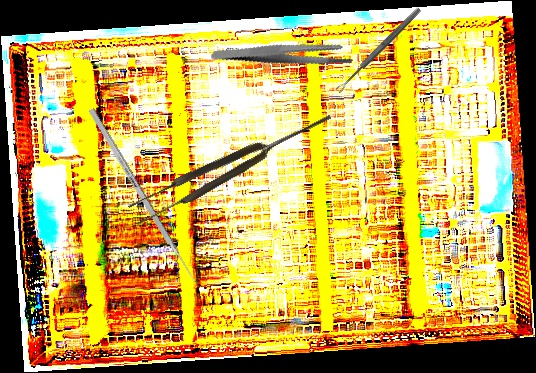Dressing Forceps: (210, 12, 356, 96)
Pusher: (87, 107, 203, 292)
Surgical Spoon: (335, 6, 422, 94)
Tissue Forceps: (126, 105, 337, 228)
